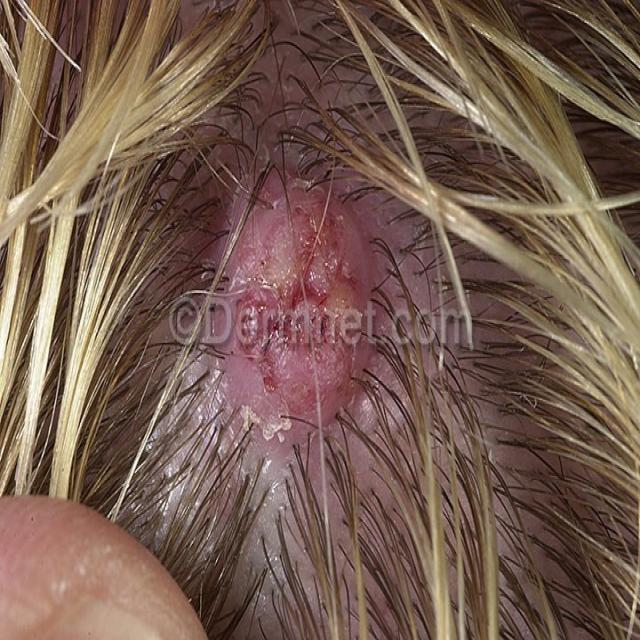Eczema: (226, 190, 350, 387)
